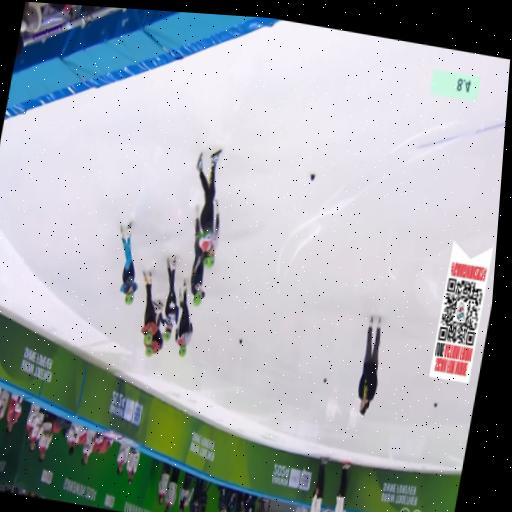Skater: (197, 150, 221, 267), (160, 259, 179, 341), (175, 282, 193, 356), (121, 222, 137, 303), (142, 271, 159, 344), (191, 217, 204, 305), (145, 302, 163, 356)
